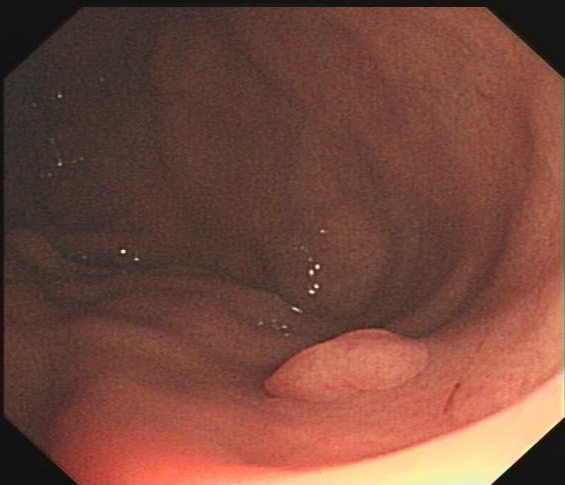Polyp: (258, 325, 432, 405)
